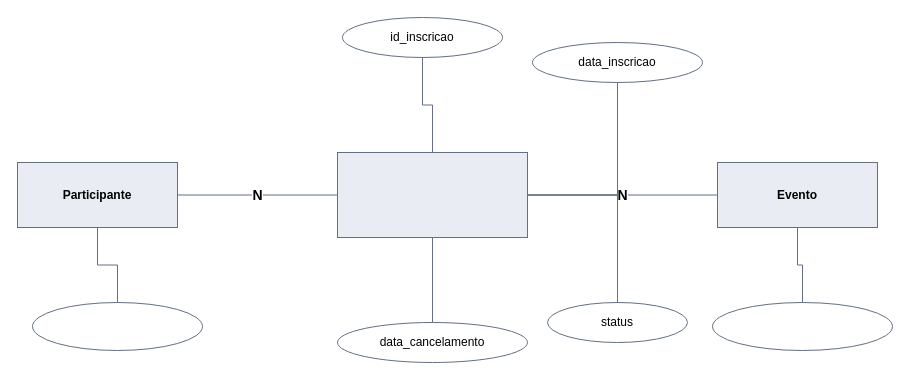
The diagram is 910 pixels wide and 380 high, and some of its shapes have lost their labels. Here are the shapes that lost their labels. From the top down, the centre of each, then its label:
At (x=432, y=195): "Inscrição".
At (x=117, y=326): "cpf (identificador)".
At (x=802, y=326): "codigo (identificador)".
